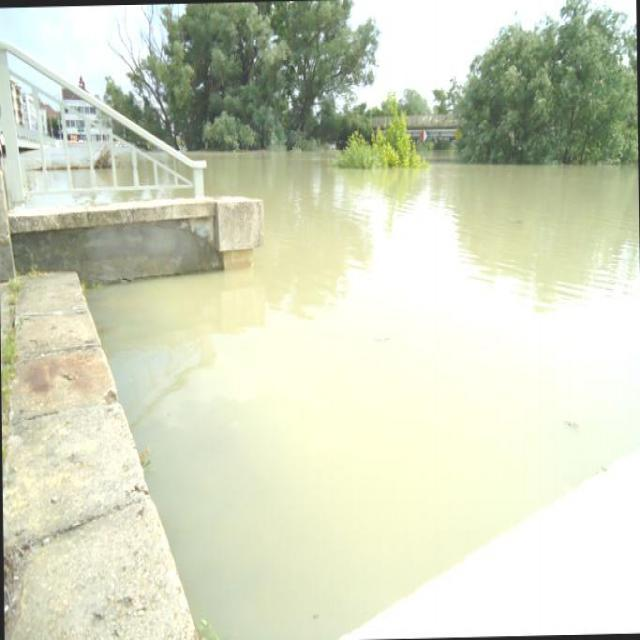flood: (93, 139, 639, 639)
